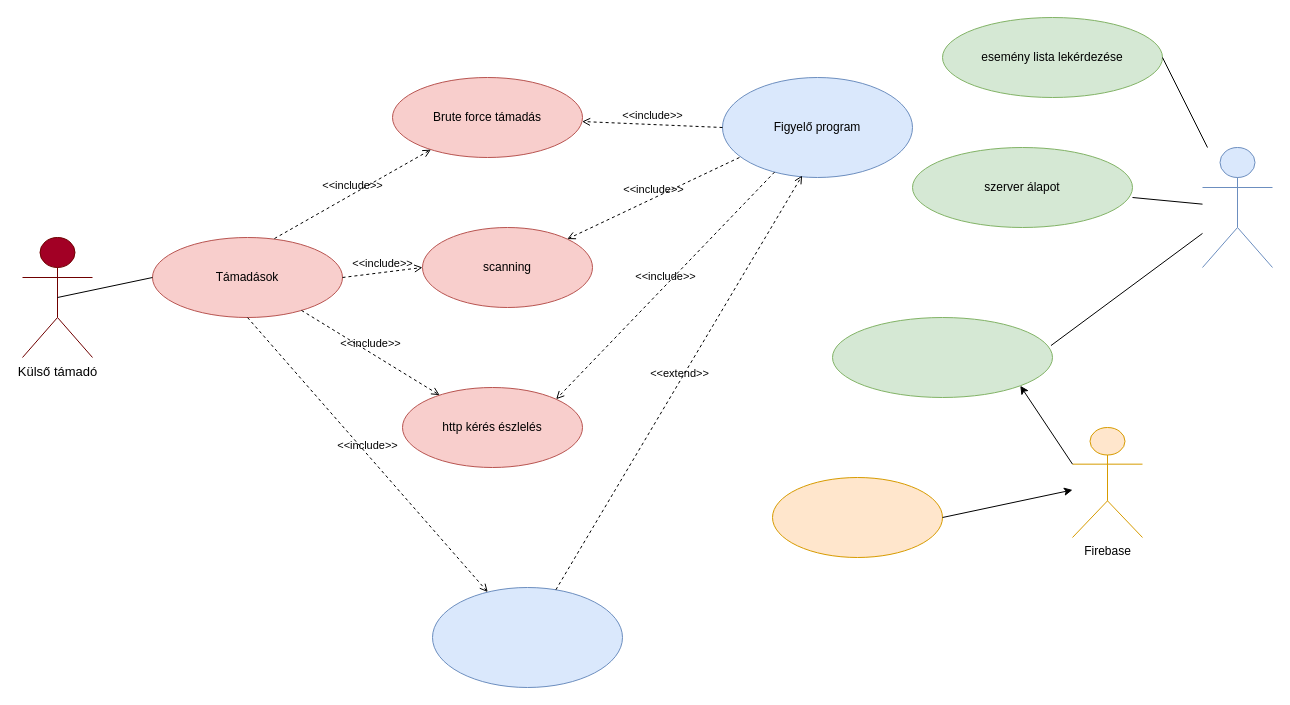
This 1290x705 diagram has some shape labels left out. The box of each missing label's shape, as (x1, y1, x2, y2) in pixels:
Mobil app: (1202, 146, 1272, 268)
Naplozás: (432, 586, 622, 688)
Push értesítés küldése: (772, 476, 942, 558)
értesítés fogadása: (832, 316, 1052, 398)
